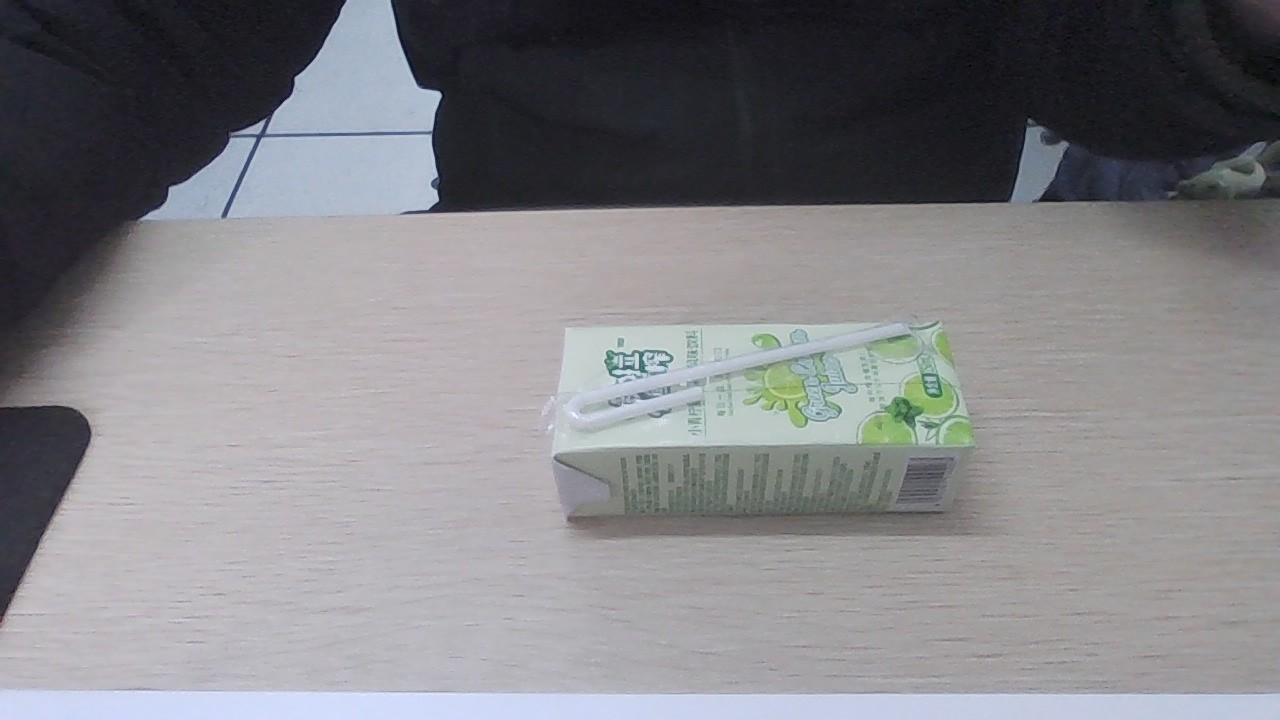CY-drink: (551, 322, 971, 520)
